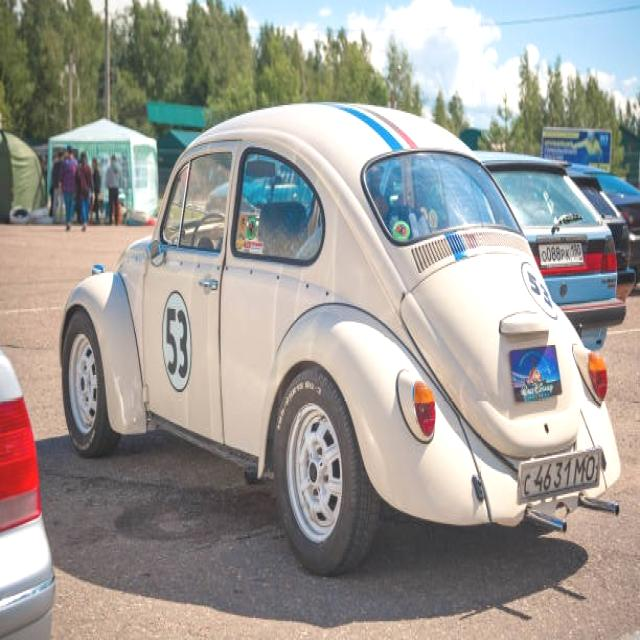car: (54, 108, 623, 553)
